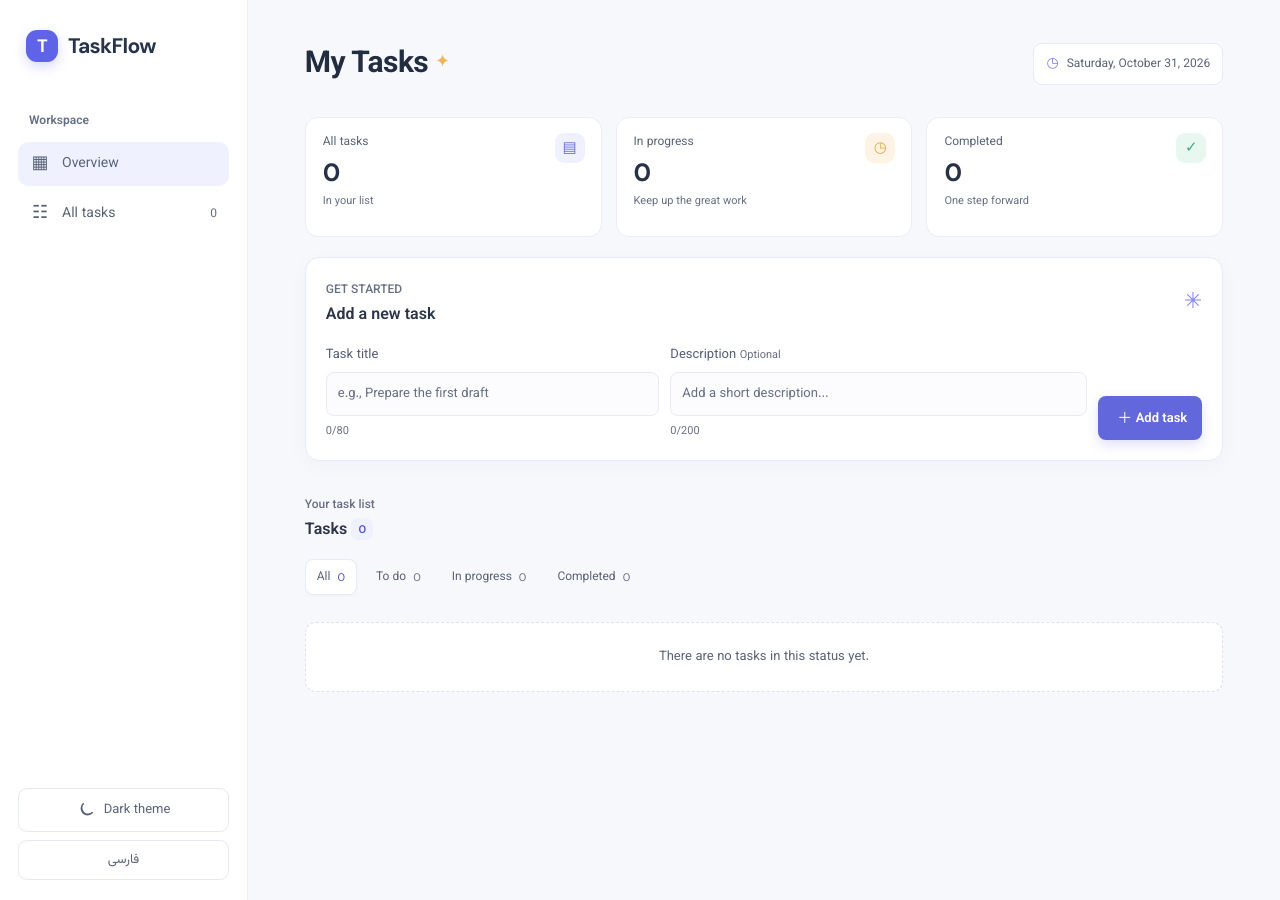
Test: TaskFlow dashboard › keeps the app usable and warns when local storage cannot save changes
Type "کار بدون ذخیره" into the field with placeholder "e.g., Prepare the first draft" at (493, 394), box left=326, top=372, right=659, bottom=416
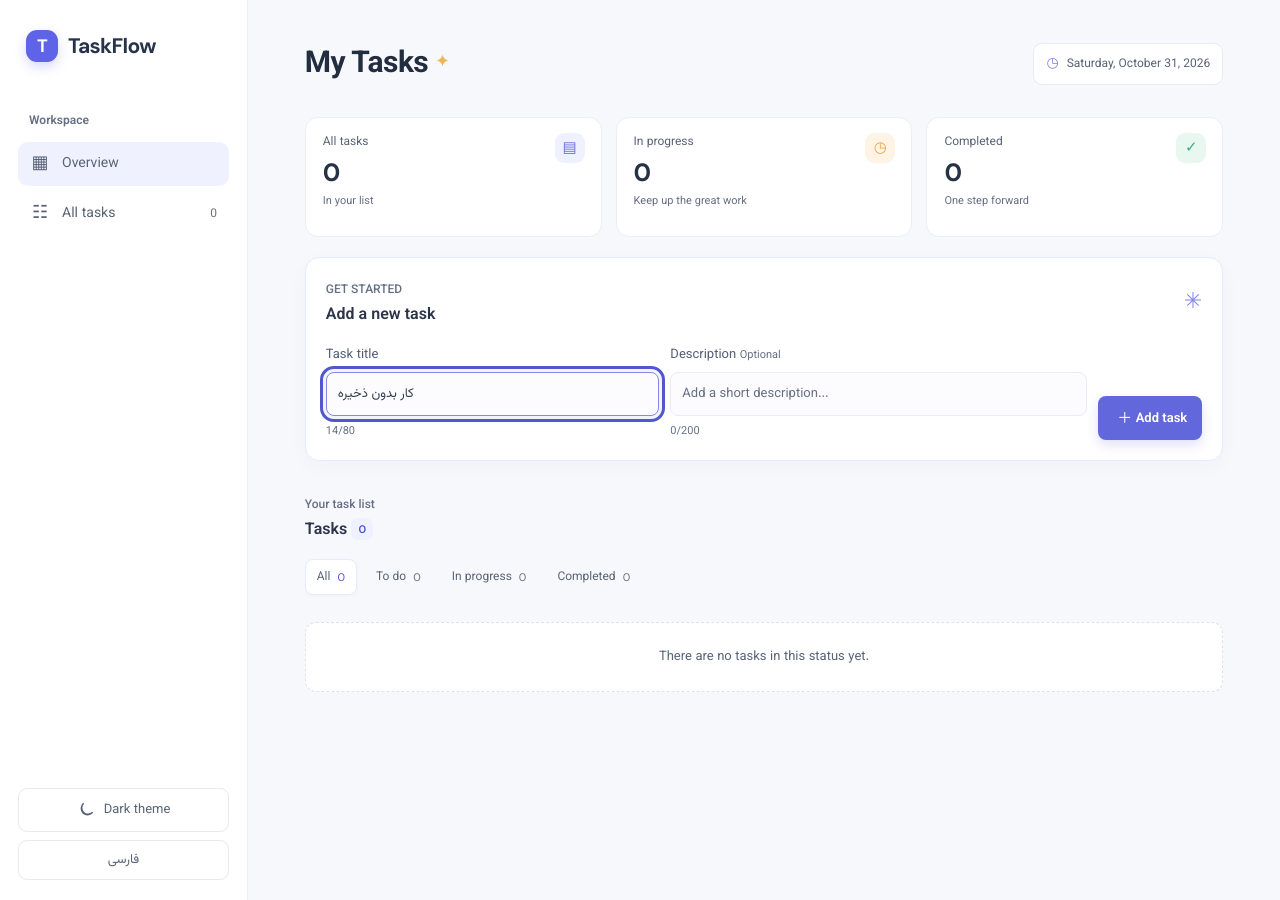
Click the button "＋ Add task" at (1150, 418), box left=1098, top=396, right=1202, bottom=440
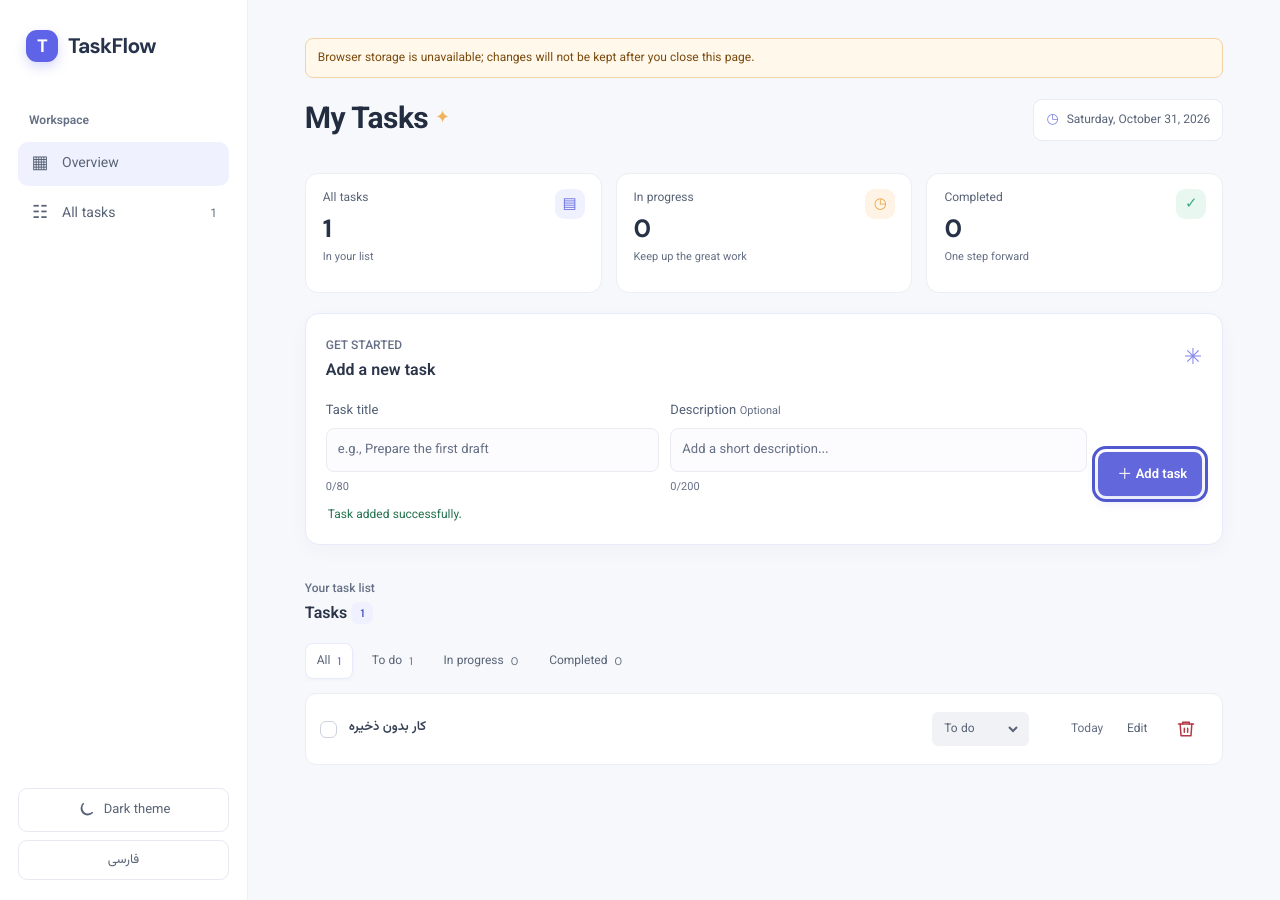
Check: the heading "کار بدون ذخیره" is shown, box left=349, top=717, right=426, bottom=737
